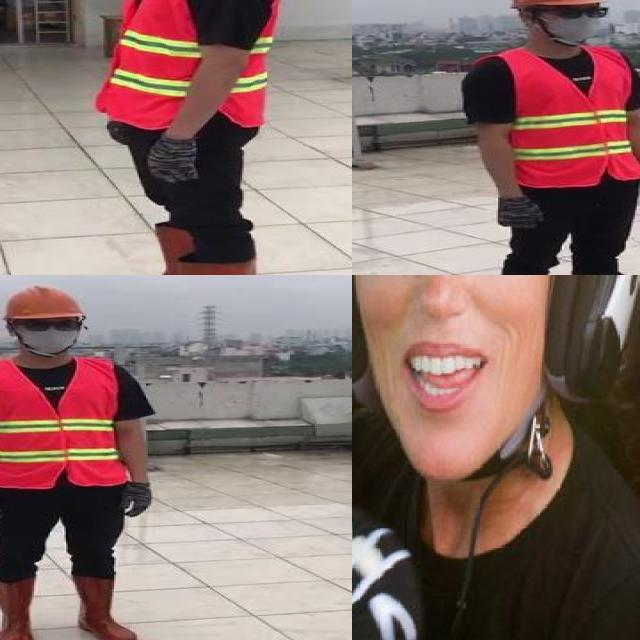boots: (100, 213, 244, 275), (71, 576, 145, 640), (124, 255, 256, 275), (0, 576, 40, 640)
face_mask: (536, 1, 606, 41), (16, 316, 80, 352)
face_nomask: (352, 275, 545, 419)
glasses: (538, 1, 613, 23), (16, 318, 80, 333)
hand_glove: (352, 490, 419, 640), (144, 136, 212, 188), (496, 194, 550, 230), (121, 482, 151, 515)
head_helmet: (0, 284, 86, 321), (503, 0, 601, 10)
person: (72, 0, 301, 275), (0, 280, 165, 640), (456, 0, 640, 275)
vest: (99, 0, 286, 133), (473, 44, 640, 187), (0, 359, 126, 487)
